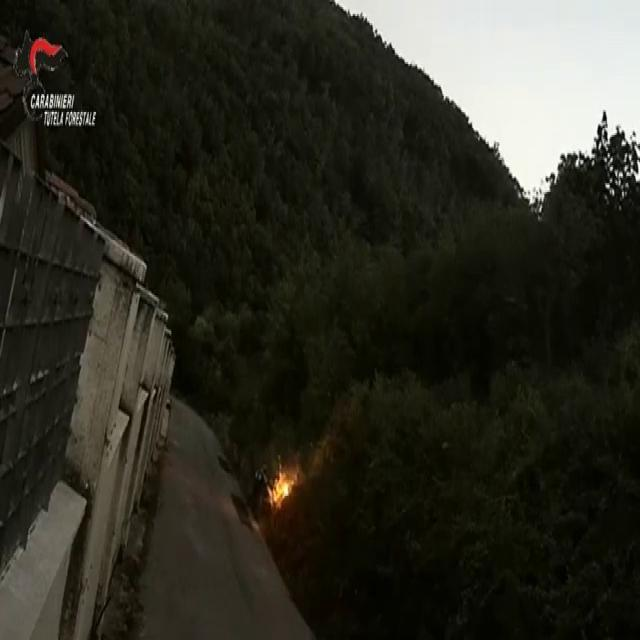Fire: (271, 473, 292, 501)
